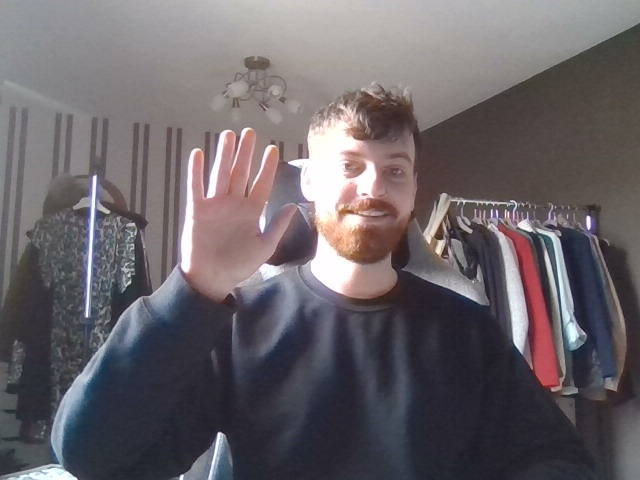Hello: (158, 107, 315, 320)
